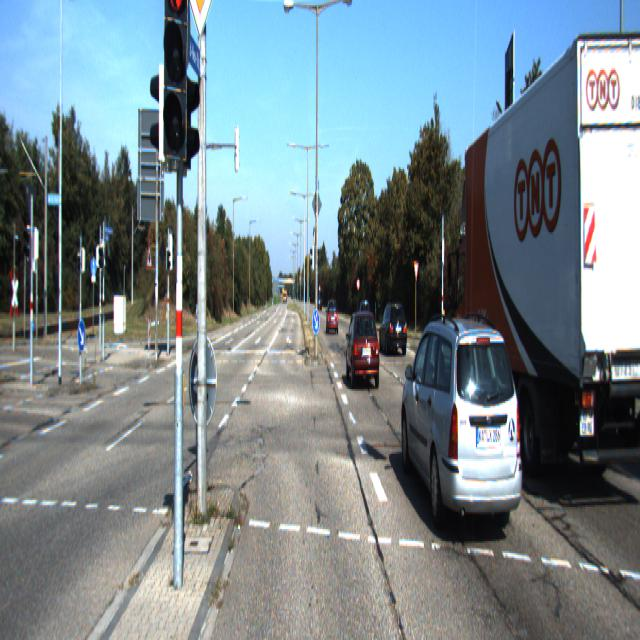Car: (448, 19, 639, 524), (400, 312, 528, 558), (346, 309, 380, 392), (378, 300, 408, 357), (326, 300, 338, 334)
